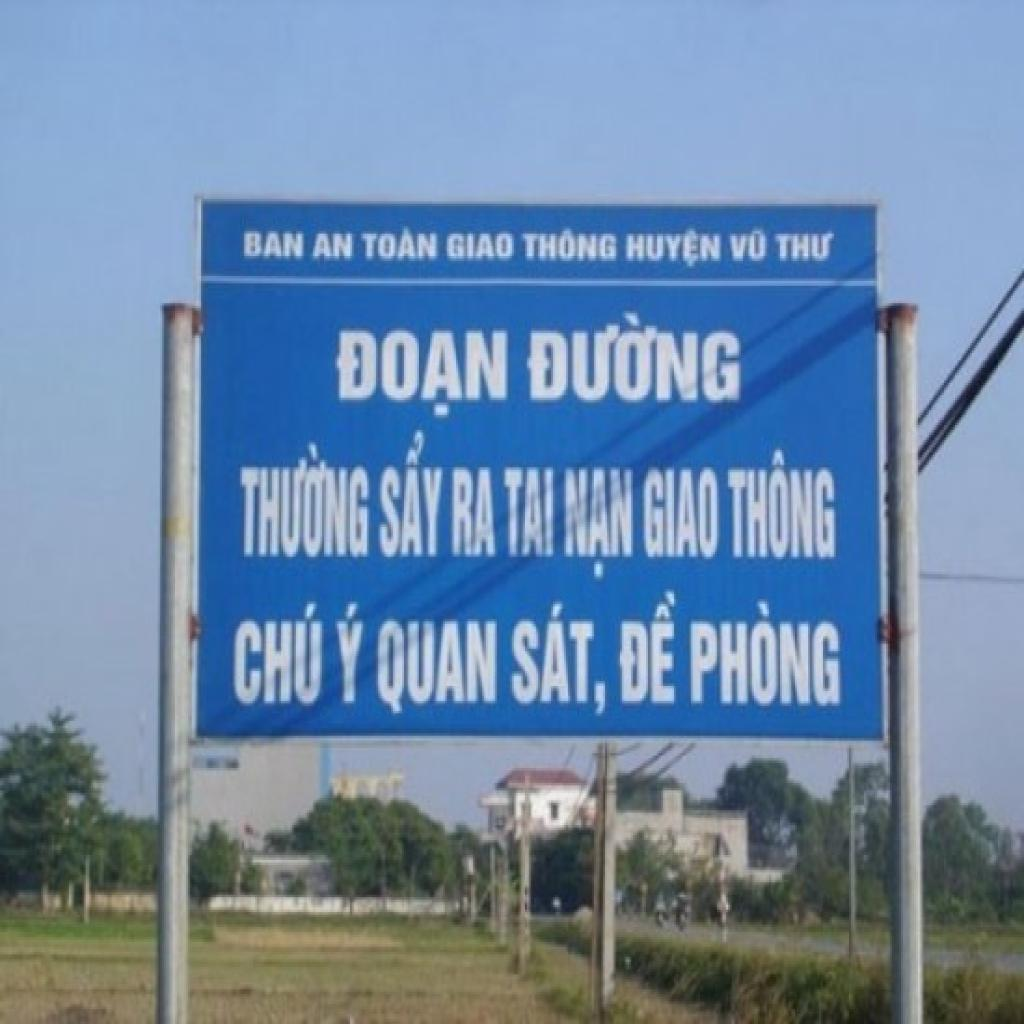text: (525, 311, 743, 405), (236, 440, 370, 562), (333, 328, 510, 420), (376, 619, 501, 723), (726, 447, 838, 562), (510, 602, 609, 718), (231, 601, 326, 706), (378, 430, 449, 559), (564, 467, 635, 587), (642, 467, 720, 564), (616, 589, 680, 706), (502, 467, 556, 559), (451, 465, 499, 559), (624, 226, 722, 271), (331, 602, 367, 708), (519, 228, 620, 264), (362, 226, 440, 261), (445, 231, 516, 264), (774, 228, 838, 264), (242, 231, 305, 261), (728, 226, 771, 266), (311, 231, 356, 261)
